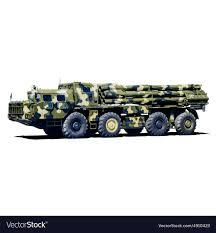MIL_SAM_TEL: (6, 80, 209, 139)
